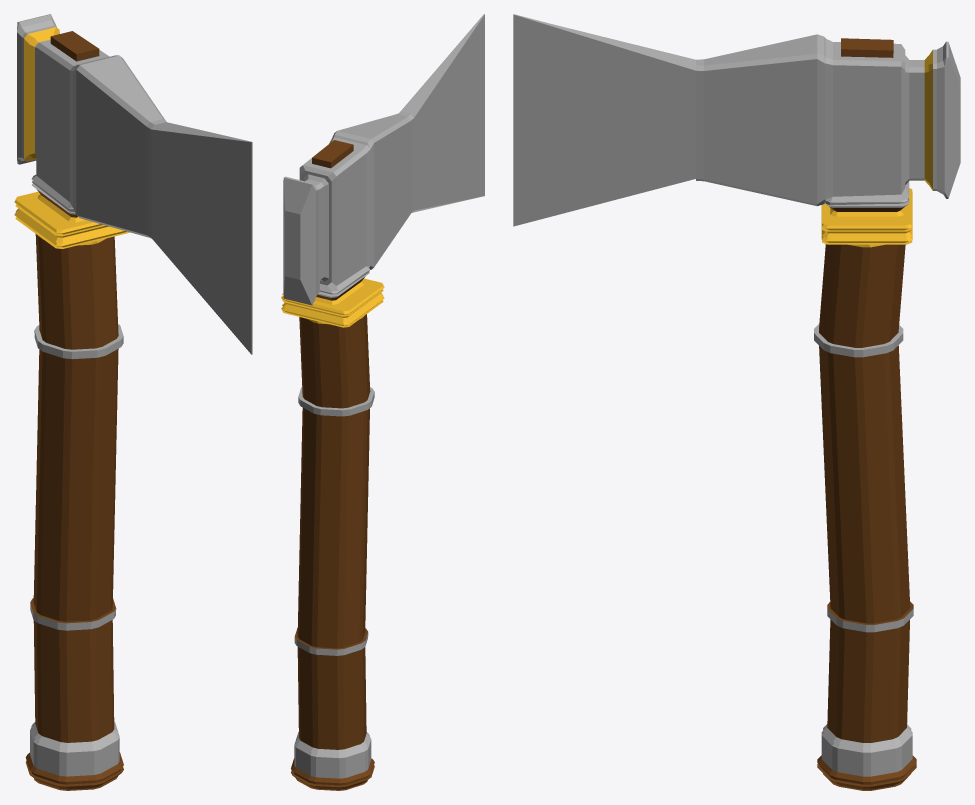
The model's file is axe.fbx.
3 renders of one model, left to right at view 1: azimuth 30°, elevation 25°; view 2: azimuth 150°, elevation 25°; view 3: azimuth 270°, elevation 25°, orthographic. The views are drawn at different scales.
Parts seen in each view (by area): view 1: Cube.001; view 2: Cube.001; view 3: Cube.001.
Boxes of the visible parts, x1,y1,x2,y2 form: Cube.001: (14,14,252,790); Cube.001: (281,14,484,790); Cube.001: (513,14,960,790).
Bounding box in the file's own units: 207 × 1738 × 929.
